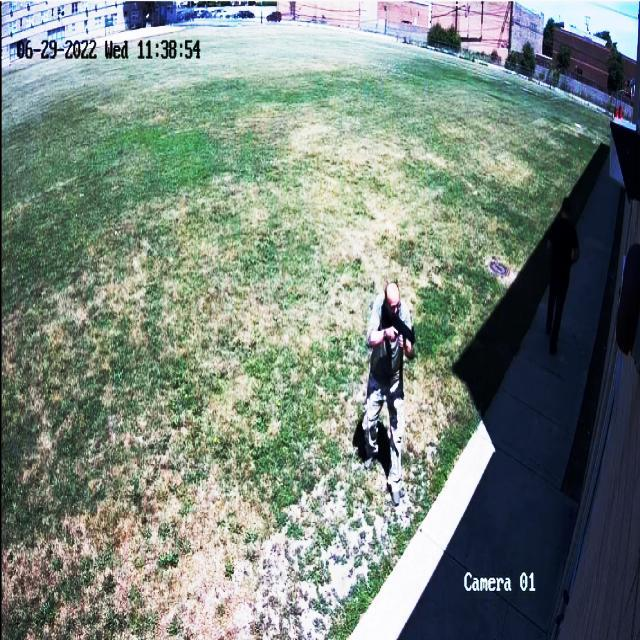Gun: (380, 308, 422, 359)
